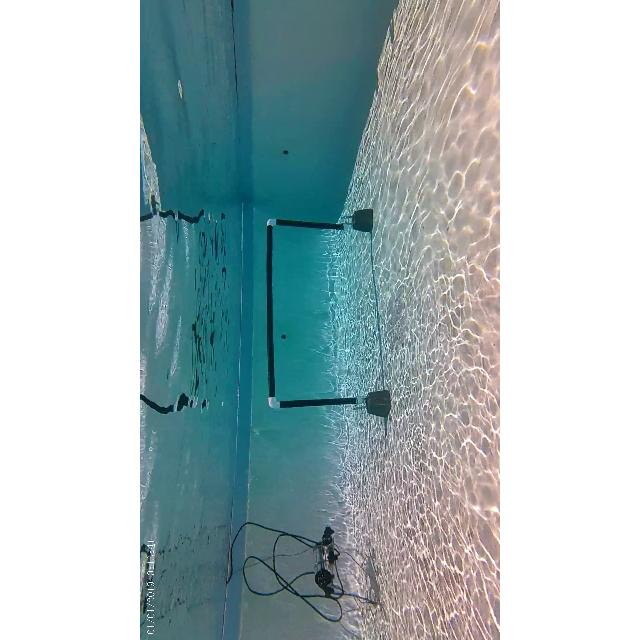prequal gate: (264, 208, 350, 420)
prequal gate leg l: (264, 382, 391, 420)
prequal gate leg r: (260, 207, 378, 237)
